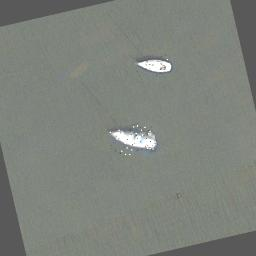boat: (108, 122, 158, 160), (130, 52, 174, 80)
